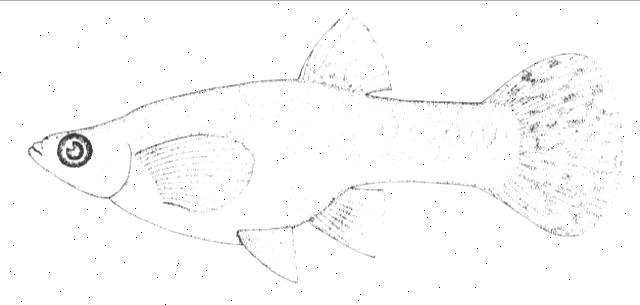Mulut: (13, 112, 63, 186)
Sirip Anal: (304, 184, 396, 266)
Sirip Dada: (125, 123, 263, 225)
Sirip Ekor: (462, 40, 634, 249)
Sirip Perut: (229, 214, 309, 294)
Sirip Punggung: (291, 9, 404, 105)
